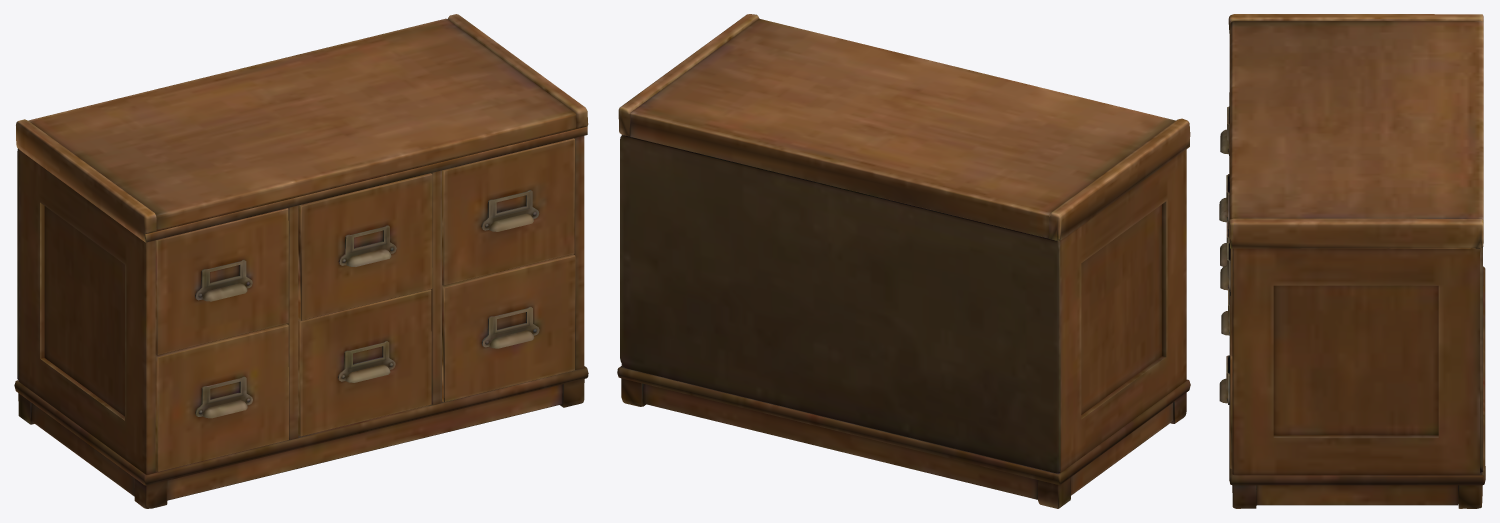
File: dresser.glb
The picture shows the model from 3 angles, left to right: view 1: azimuth 30°, elevation 25°; view 2: azimuth 150°, elevation 25°; view 3: azimuth 270°, elevation 25°; orthographic projection. The views are drawn at different scales.
Visible parts, largest first — view 1: vintage_wooden_drawer_01_body; view 2: vintage_wooden_drawer_01_body; view 3: vintage_wooden_drawer_01_body.
Part boxes in pixels (bbox=[...]): vintage_wooden_drawer_01_body: bbox=[14, 14, 588, 508]; vintage_wooden_drawer_01_body: bbox=[617, 14, 1190, 508]; vintage_wooden_drawer_01_body: bbox=[1219, 14, 1485, 508].
Bounding box in the file's own units: 0.8576 × 0.5455 × 0.4574.
Materials: 1 (1 with a texture image).
